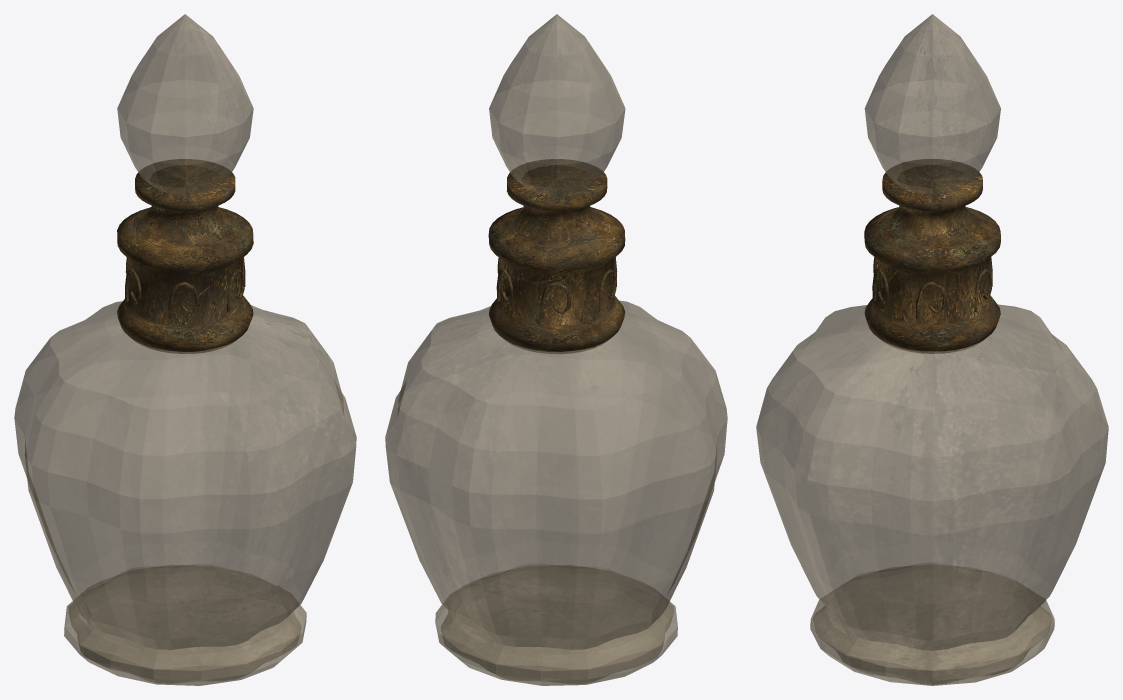
File: vanity_perfume.glb
The picture shows the model from 3 angles, left to right: view 1: azimuth 30°, elevation 25°; view 2: azimuth 150°, elevation 25°; view 3: azimuth 270°, elevation 25°; orthographic projection.
Visible parts, largest first — view 1: VanityPerfume_FlutedBottle, VanityPerfume_CrystalFoot, VanityPerfume_BronzeCollar, VanityPerfume_FacetedStopper, VanityPerfume_CollarFiligree; view 2: VanityPerfume_FlutedBottle, VanityPerfume_CrystalFoot, VanityPerfume_BronzeCollar, VanityPerfume_FacetedStopper, VanityPerfume_CollarFiligree; view 3: VanityPerfume_FlutedBottle, VanityPerfume_CrystalFoot, VanityPerfume_BronzeCollar, VanityPerfume_FacetedStopper, VanityPerfume_CollarFiligree.
Boxes of the visible parts, x1,y1,x2,y2 form: VanityPerfume_FlutedBottle: (14, 301, 356, 683); VanityPerfume_CrystalFoot: (64, 565, 306, 685); VanityPerfume_BronzeCollar: (117, 159, 253, 353); VanityPerfume_FacetedStopper: (117, 14, 253, 195); VanityPerfume_CollarFiligree: (125, 257, 245, 319); VanityPerfume_FlutedBottle: (385, 300, 727, 683); VanityPerfume_CrystalFoot: (435, 565, 677, 685); VanityPerfume_BronzeCollar: (488, 159, 625, 354); VanityPerfume_FacetedStopper: (489, 14, 625, 195); VanityPerfume_CollarFiligree: (496, 257, 617, 319); VanityPerfume_FlutedBottle: (756, 304, 1108, 684); VanityPerfume_CrystalFoot: (810, 564, 1054, 685); VanityPerfume_BronzeCollar: (864, 159, 1000, 353); VanityPerfume_FacetedStopper: (864, 14, 1000, 194); VanityPerfume_CollarFiligree: (872, 257, 992, 319).
Bounding box in the file's own units: 0.0982 × 0.193 × 0.0982.
2 materials, 2 textured.
